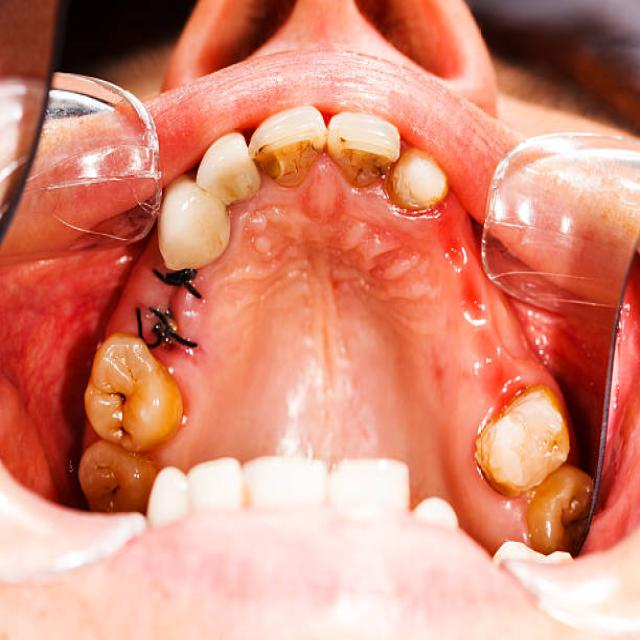caries: (477, 398, 563, 483)
